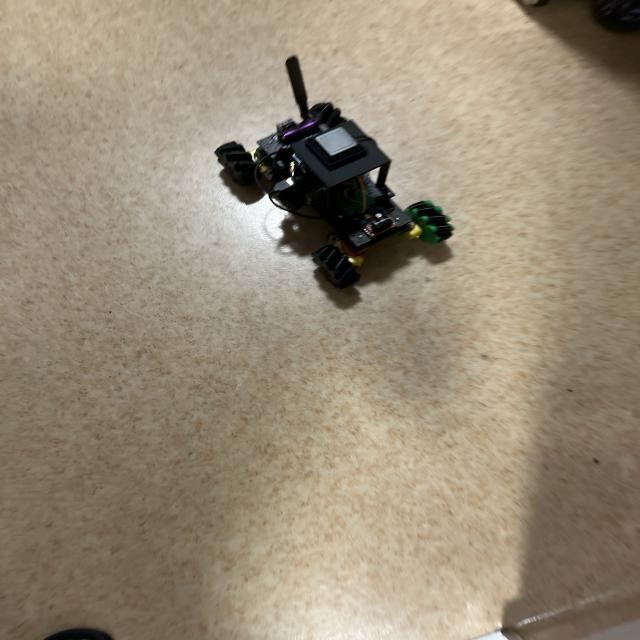robot: (215, 56, 454, 289)
